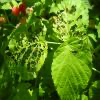Raspberry leaf: (51, 41, 93, 100)
